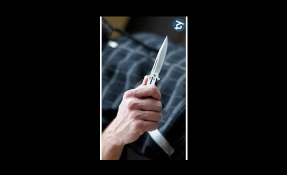k1: (145, 34, 170, 84)
